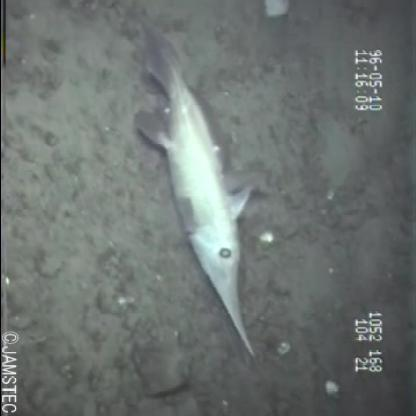Bio: (132, 21, 268, 366)
